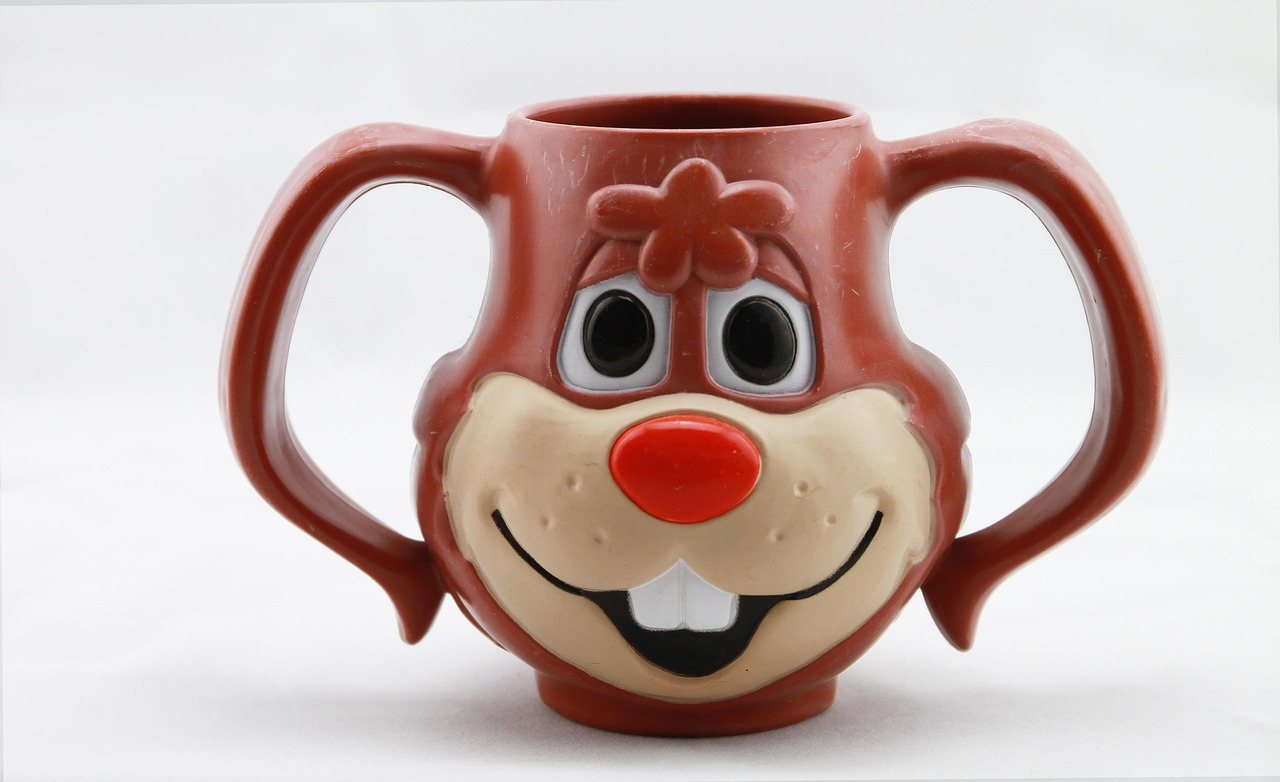mug: (205, 56, 1180, 736)
